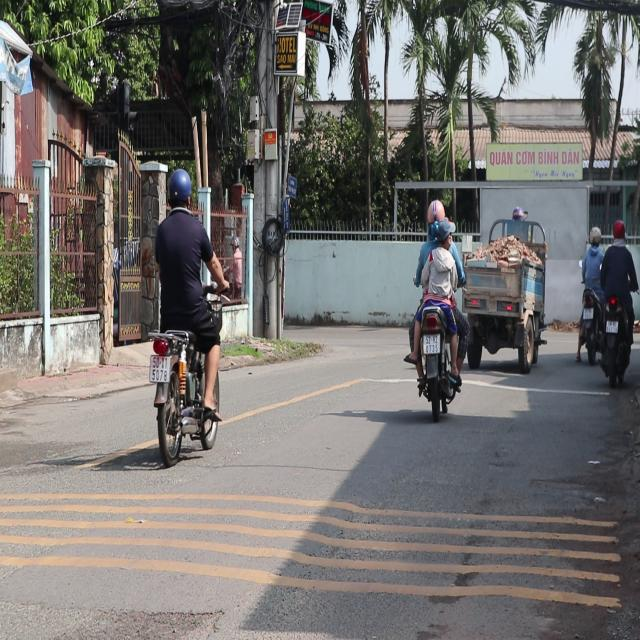helmet: (165, 166, 192, 214), (426, 198, 445, 227)
licenseplate: (145, 164, 226, 464), (404, 197, 466, 416)
motorcyclist: (435, 218, 453, 248)
nohelmet: (148, 356, 170, 382), (423, 333, 439, 352)
